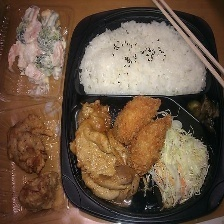rice: (75, 19, 208, 100)
